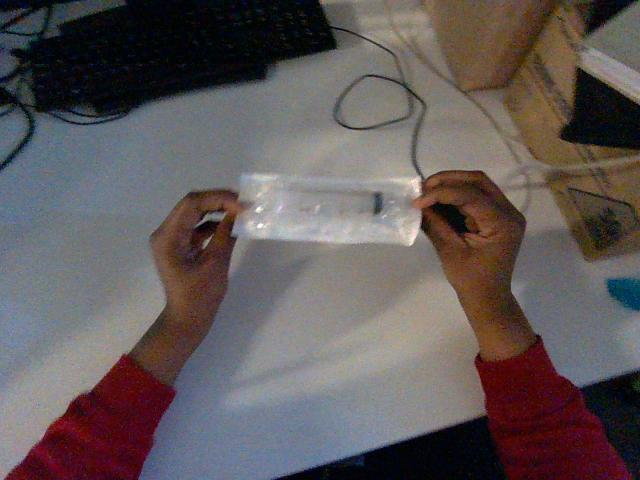syringe: (233, 174, 420, 245)
